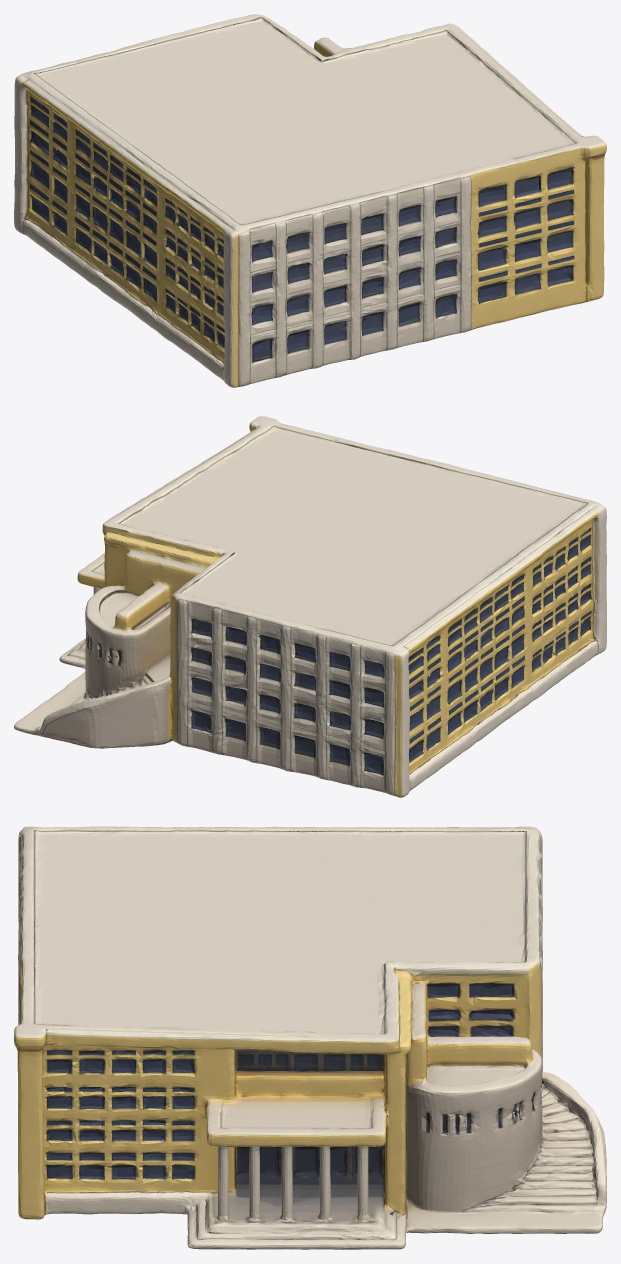
File: MV_Block.glb
The picture shows the model from 3 angles, top to bottom: view 1: azimuth 30°, elevation 25°; view 2: azimuth 150°, elevation 25°; view 3: azimuth 270°, elevation 25°; orthographic projection. The views are drawn at different scales.
Parts seen in each view (by area): view 1: tripo_node_e4a1baef-96ee-4dc3-8d01-d31de8850012; view 2: tripo_node_e4a1baef-96ee-4dc3-8d01-d31de8850012; view 3: tripo_node_e4a1baef-96ee-4dc3-8d01-d31de8850012.
Boxes of the visible parts, bbox=[...] form: tripo_node_e4a1baef-96ee-4dc3-8d01-d31de8850012: bbox=[14, 14, 606, 387]; tripo_node_e4a1baef-96ee-4dc3-8d01-d31de8850012: bbox=[14, 416, 606, 797]; tripo_node_e4a1baef-96ee-4dc3-8d01-d31de8850012: bbox=[14, 826, 606, 1249].
Bounding box in the file's own units: 0.9797 × 0.3514 × 0.9995.
1 material, 1 textured.
